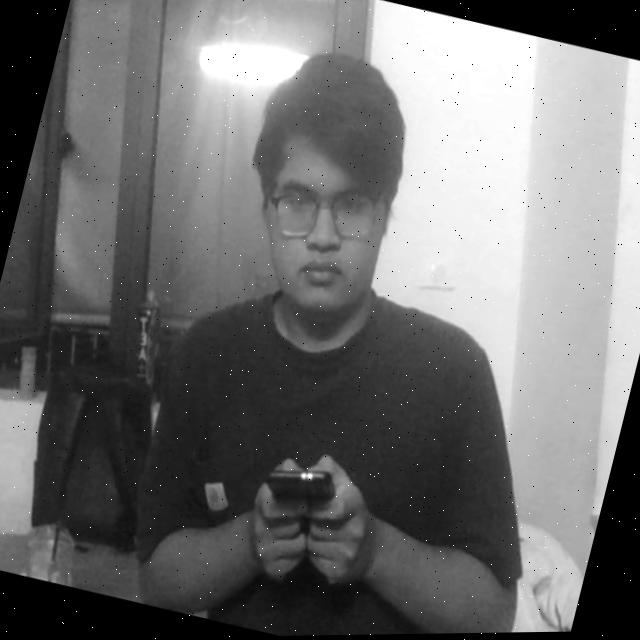phone: (238, 430, 358, 544)
